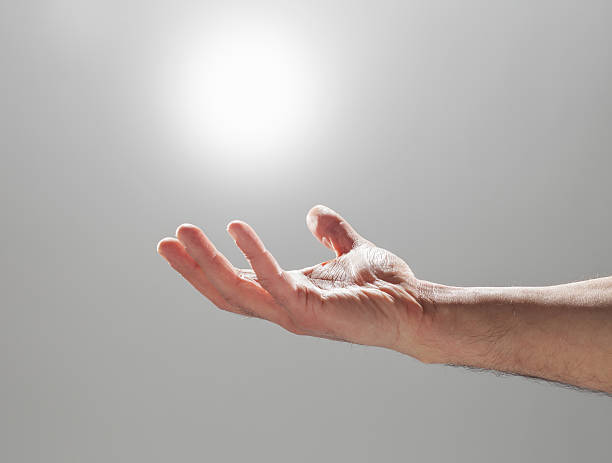non-diseased: (154, 212, 435, 350)
